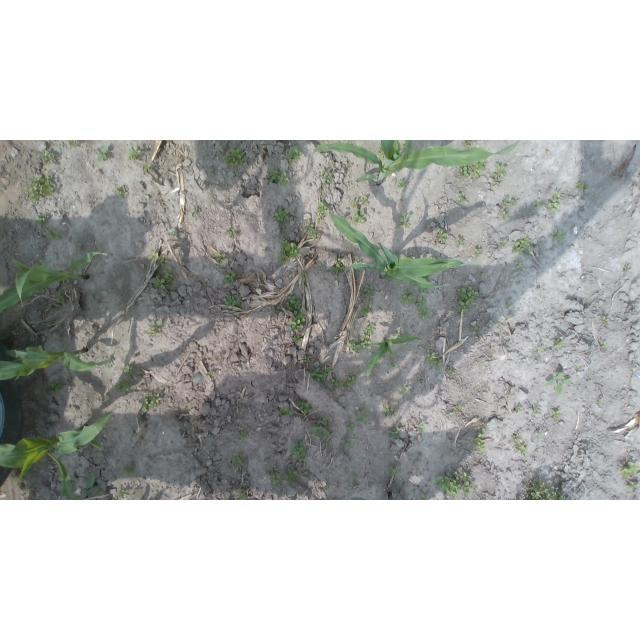Maize: (321, 190, 481, 290), (310, 141, 523, 186), (0, 407, 116, 485), (1, 251, 110, 317), (0, 342, 110, 382), (366, 334, 428, 377), (48, 451, 96, 500), (351, 490, 395, 500)
Weeds: (434, 471, 474, 500), (518, 479, 565, 500), (24, 175, 57, 204), (399, 291, 432, 320), (348, 324, 376, 355), (286, 291, 307, 330), (277, 238, 303, 265), (455, 286, 480, 313), (510, 233, 534, 260), (545, 373, 572, 395), (458, 159, 485, 180), (220, 148, 246, 169), (473, 421, 490, 453), (309, 417, 332, 440), (267, 165, 289, 188), (351, 196, 369, 224), (289, 439, 308, 463), (330, 375, 358, 391), (148, 250, 171, 269), (141, 393, 161, 414), (618, 461, 640, 479), (491, 163, 508, 186), (426, 349, 443, 372), (512, 435, 528, 458), (296, 398, 313, 419), (286, 146, 303, 167), (310, 366, 332, 382), (43, 379, 63, 396), (330, 254, 345, 275), (549, 337, 570, 352), (547, 191, 561, 213), (146, 320, 163, 337), (304, 220, 318, 240), (39, 148, 56, 164), (396, 213, 413, 229), (272, 208, 290, 223), (354, 405, 368, 423), (316, 202, 328, 223), (115, 379, 130, 395), (231, 453, 245, 470), (96, 146, 110, 163), (551, 228, 565, 244), (225, 295, 242, 308), (285, 470, 300, 484), (341, 438, 355, 453), (361, 284, 376, 298), (127, 146, 141, 161), (435, 229, 449, 244), (122, 463, 137, 477), (162, 266, 174, 283), (46, 227, 60, 241), (114, 184, 128, 198), (500, 197, 519, 207), (151, 276, 165, 289), (224, 271, 236, 286), (384, 404, 397, 417), (320, 170, 333, 183), (456, 193, 469, 206), (270, 471, 282, 485), (236, 427, 248, 440), (389, 426, 401, 439), (35, 212, 48, 224), (215, 253, 226, 267), (123, 364, 135, 376), (56, 292, 67, 305), (416, 419, 426, 433), (278, 408, 293, 417), (447, 364, 457, 377), (378, 145, 387, 159), (346, 421, 357, 432), (360, 305, 372, 315), (227, 227, 237, 239), (625, 484, 640, 492), (166, 230, 179, 239), (576, 182, 589, 191), (238, 490, 249, 500), (293, 334, 304, 344), (387, 466, 397, 477), (396, 179, 407, 188), (602, 316, 611, 327), (351, 472, 359, 484), (400, 384, 410, 393), (143, 163, 152, 173), (456, 237, 465, 247), (498, 239, 508, 248), (419, 286, 430, 294), (533, 199, 541, 210), (118, 490, 127, 499), (300, 271, 308, 281), (533, 404, 540, 415), (94, 488, 105, 495), (209, 166, 217, 175), (422, 274, 431, 282), (552, 410, 560, 419), (116, 300, 126, 307), (534, 345, 544, 352), (272, 305, 280, 313), (192, 209, 200, 217), (474, 248, 482, 256), (515, 261, 523, 269), (454, 404, 462, 412), (102, 359, 110, 367), (324, 443, 331, 452), (355, 369, 364, 376), (68, 141, 77, 148), (398, 144, 405, 153), (463, 141, 472, 148), (393, 332, 402, 339), (389, 360, 397, 367), (49, 304, 56, 312), (601, 341, 608, 349), (418, 493, 426, 500), (539, 430, 546, 438), (501, 211, 508, 219), (345, 162, 354, 168), (403, 253, 412, 259), (516, 406, 525, 412), (574, 363, 581, 370), (470, 325, 478, 331), (325, 482, 331, 490), (505, 300, 511, 308), (304, 357, 311, 363), (404, 331, 411, 337), (625, 265, 632, 271), (477, 272, 485, 277), (206, 372, 214, 377), (112, 494, 118, 500), (411, 282, 418, 287), (131, 492, 138, 497), (420, 377, 425, 383), (598, 397, 603, 403), (78, 243, 83, 248), (449, 412, 454, 417), (354, 261, 358, 264)
